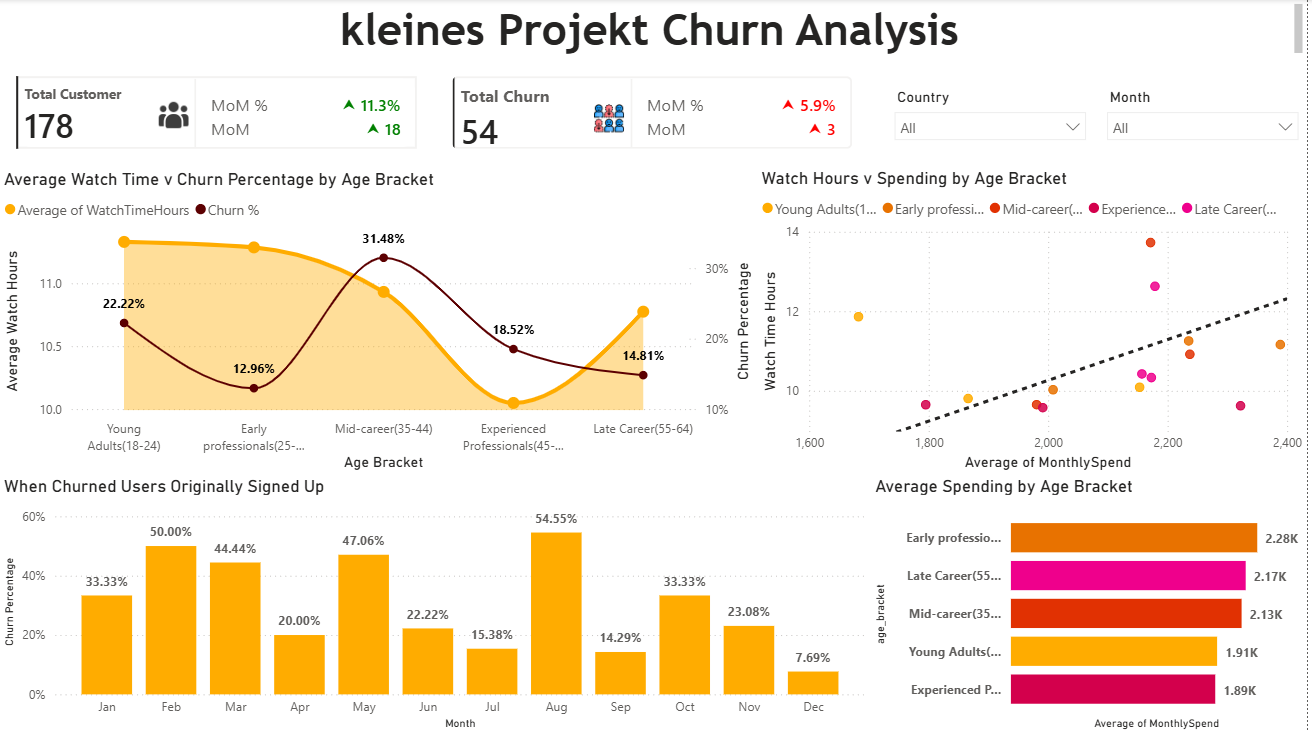

This screenshot's page, from the dashboard's own definition file:
{"tool":"powerbi","page":{"name":"Dashboard","canvas":[1280,720],"ordinal":0},"visuals":[{"type":"scatterChart","title":"Watch Hours v Spending by Age Bracket","fields":{"X":["Avg(raw_data_clean_2.MonthlySpend)"],"Y":["Avg(raw_data_clean_2.WatchTimeHours)"],"Category":["raw_data_clean_2.Country"],"Series":["raw_data_clean_2.age_bracket"]},"box":[741,165.1,539.3,300.8],"z":0},{"type":"slicer","fields":{"Values":["Date.Month"]},"box":[1073.1,82.3,207.2,82.3],"z":1000},{"type":"lineChart","title":"Average Watch Time v Churn Percentage by Age Bracket","fields":{"Y":["Avg(raw_data_clean_2.WatchTimeHours)"],"Category":["raw_data_clean_2.age_bracket"],"Y2":["Sum(raw_data_clean_2.Churned)"]},"box":[0,166.3,741,299.6],"z":2000},{"type":"slicer","fields":{"Values":["raw_data_clean_2.Country"]},"box":[865.9,82.3,207.2,82.3],"z":3000},{"type":"textbox","box":[0,0,1280.3,58.7],"z":4000},{"type":"barChart","title":"Average Spending by Age Bracket","fields":{"Category":["raw_data_clean_2.age_bracket"],"Series":["raw_data_clean_2.age_bracket"],"Y":["Avg(raw_data_clean_2.MonthlySpend)"]},"box":[852.3,465.9,428,254.3],"z":5000},{"type":"columnChart","title":"When Churned Users Originally Signed Up","fields":{"Category":["Date.Month"],"Y":["All Measures.Churn Percentage"]},"box":[0,465.9,852.3,254.3],"z":6000},{"type":"cardVisual","fields":{"Data":["All Measures.Total Customer"]},"box":[0,58.4,426.8,105.6],"z":7000},{"type":"cardVisual","fields":{"Data":["All Measures.Total Churn"]},"box":[426.8,58.4,425.4,105.6],"z":8000}]}

Visuals, with their boxes in screenshot pixels (x1, y1, x2, y2), scaled from the page's 1280x720 canvas onto the 1312x732 screenshot:
"Watch Hours v Spending by Age Bracket" scatterChart: detection(760, 168, 1311, 474)
slicer - Date.Month: detection(1100, 84, 1311, 167)
"Average Watch Time v Churn Percentage by Age Bracket" lineChart: detection(0, 169, 760, 474)
slicer - raw_data_clean_2.Country: detection(888, 84, 1100, 167)
textbox: detection(0, 0, 1311, 60)
"Average Spending by Age Bracket" barChart: detection(874, 474, 1311, 731)
"When Churned Users Originally Signed Up" columnChart: detection(0, 474, 874, 731)
cardVisual - All Measures.Total Customer: detection(0, 59, 437, 167)
cardVisual - All Measures.Total Churn: detection(437, 59, 874, 167)
